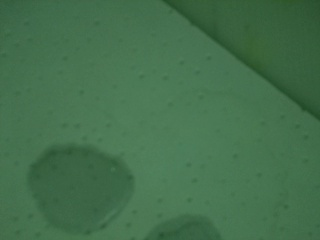Water_detected: (43, 153, 114, 214)
